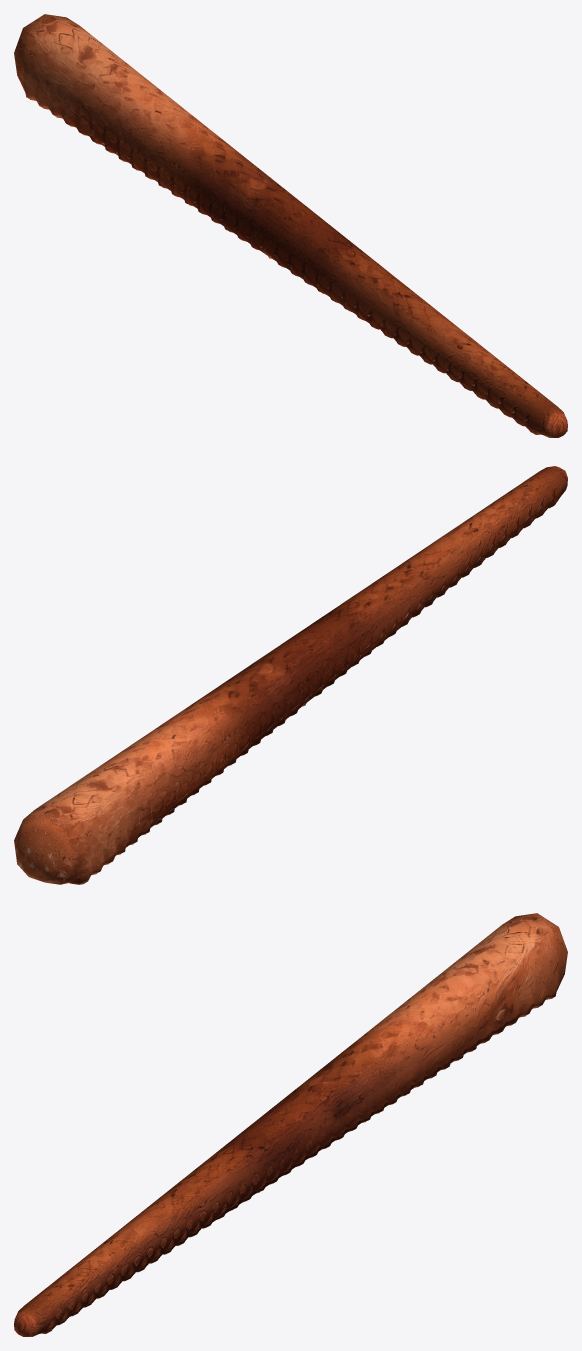
File: Meshy_AI__0509153153_texture.fbx
The picture shows the model from 3 angles, top to bottom: view 1: azimuth 30°, elevation 25°; view 2: azimuth 150°, elevation 25°; view 3: azimuth 330°, elevation 25°; orthographic projection.
Visible parts, largest first — view 1: Mesh_0; view 2: Mesh_0; view 3: Mesh_0.
Boxes of the visible parts, left/top/right/bottom form: Mesh_0: left=14, top=14, right=567, bottom=437; Mesh_0: left=14, top=466, right=567, bottom=884; Mesh_0: left=14, top=913, right=567, bottom=1336.
Bounding box in the file's own units: 14.37 × 15.09 × 200.
1 material, 1 textured.
